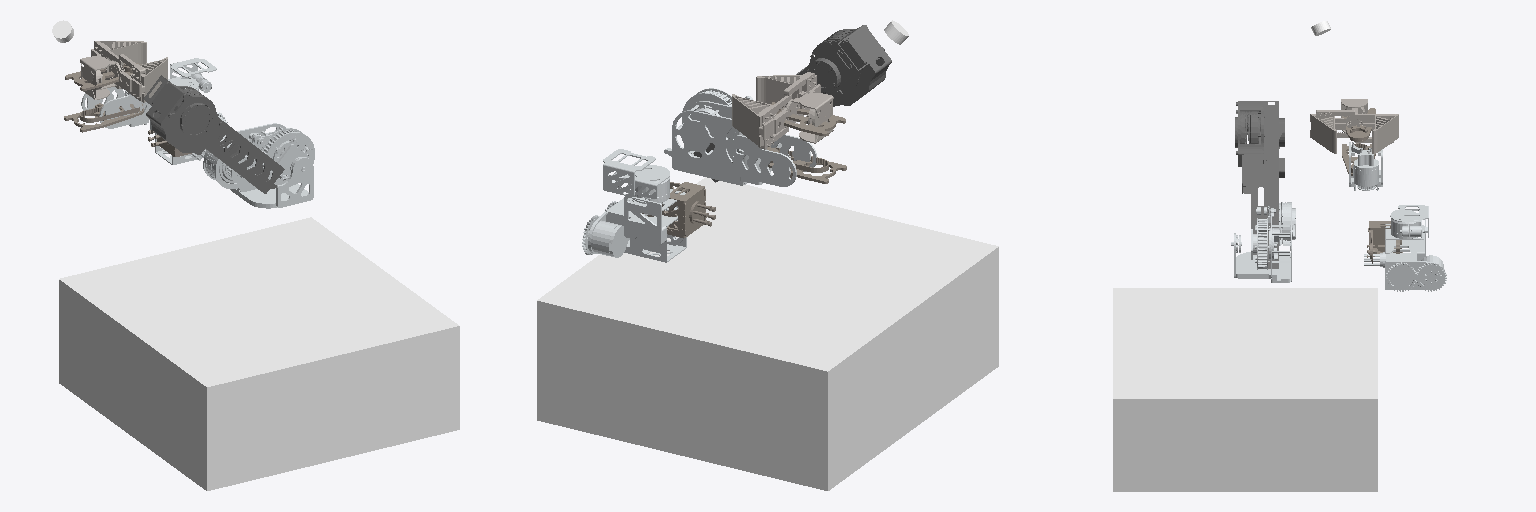
The robot description file, URDF, robot "wust_heavy_lift":
<?xml version="1.0"?>
<robot name="wust_heavy_lift" xmlns:xacro="http://www.ros.org/wiki/xacro">
  <link name="base">
    <inertial>
      <origin xyz="0.03057411 0.00833031 0.1359428" rpy="0 0 0"/>
      <mass value="2.97836886"/>
      <inertia ixx="0.0173222" ixy="0.00021754" ixz="0.00427526" iyy="0.02293598" iyz="0.00056289" izz="0.00881735"/>
    </inertial>
    <visual>
      <origin xyz="0 0 0" rpy="0 0 0"/>
      <geometry><mesh filename="package://wust_heavy_lift_description/meshes/base_collision.stl"/></geometry>
      <material name="base_color"><color rgba="1 1 1 1"/></material>
    </visual>
    <collision>
      <origin xyz="0 0 0" rpy="0 0 0"/>
      <geometry><mesh filename="package://wust_heavy_lift_description/meshes/base_collision.stl"/></geometry>
    </collision>
  </link>
  <link name="link1">
    <inertial>
      <origin xyz="0.00204172 0.04602681 -0.00160657" rpy="0 0 0"/>
      <mass value="0.76071759"/>
      <inertia ixx="0.00119291" ixy="0.0000256" ixz="-0.00006291" iyy="0.00094135" iyz="0.00000147" izz="0.00081243"/>
    </inertial>
    <visual>
      <origin xyz="0 0 0" rpy="0 0 0"/>
      <geometry><mesh filename="package://wust_heavy_lift_description/meshes/link1_collision.stl"/></geometry>
      <material name="link1_color"><color rgba="0.89803922 0.91764706 0.92941176 1"/></material>
    </visual>
    <collision>
      <origin xyz="0 0 0" rpy="0 0 0"/>
      <geometry><mesh filename="package://wust_heavy_lift_description/meshes/link1_collision.stl"/></geometry>
    </collision>
  </link>
  <link name="link2">
    <inertial>
      <origin xyz="-0.03774787 0.08652143 -0.01708302" rpy="0 0 0"/>
      <mass value="0.90154258"/>
      <inertia ixx="0.00213021" ixy="0.00134154" ixz="0.00019995" iyy="0.00208061" iyz="-0.00019807" izz="0.00342371"/>
    </inertial>
    <visual>
      <origin xyz="0 0 0" rpy="0 0 0"/>
      <geometry><mesh filename="package://wust_heavy_lift_description/meshes/link2_collision.stl"/></geometry>
      <material name="link2_color"><color rgba="0.49803922 0.49803922 0.49803922 1"/></material>
    </visual>
    <collision>
      <origin xyz="0 0 0" rpy="0 0 0"/>
      <geometry><mesh filename="package://wust_heavy_lift_description/meshes/link2_collision.stl"/></geometry>
    </collision>
  </link>
  <link name="link3">
    <inertial>
      <origin xyz="-0.07062083 0.10852739 -0.01609221" rpy="0 0 0"/>
      <mass value="1.35727377"/>
      <inertia ixx="0.00417074" ixy="-0.00023246" ixz="0.00057282" iyy="0.00354877" iyz="0.00090338" izz="0.00294161"/>
    </inertial>
    <visual>
      <origin xyz="0 0 0" rpy="0 0 0"/>
      <geometry><mesh filename="package://wust_heavy_lift_description/meshes/link3_collision.stl"/></geometry>
      <material name="link3_color"><color rgba="0.89803922 0.91764706 0.92941176 1"/></material>
    </visual>
    <collision>
      <origin xyz="0 0 0" rpy="0 0 0"/>
      <geometry><mesh filename="package://wust_heavy_lift_description/meshes/link3_collision.stl"/></geometry>
    </collision>
  </link>
  <link name="link4">
    <inertial>
      <origin xyz="-0.09379638 -0.00599206 0.05250412" rpy="0 0 0"/>
      <mass value="1.03370253"/>
      <inertia ixx="0.00258218" ixy="-0.00031653" ixz="0.00092212" iyy="0.00341597" iyz="0.00012783" izz="0.00217406"/>
    </inertial>
    <visual>
      <origin xyz="0 0 0" rpy="0 0 0"/>
      <geometry><mesh filename="package://wust_heavy_lift_description/meshes/link4_collision.stl"/></geometry>
      <material name="link4_color"><color rgba="0.65098039 0.61960784 0.58823529 1"/></material>
    </visual>
    <collision>
      <origin xyz="0 0 0" rpy="0 0 0"/>
      <geometry><mesh filename="package://wust_heavy_lift_description/meshes/link4_collision.stl"/></geometry>
    </collision>
  </link>
  <link name="link5">
    <inertial>
      <origin xyz="-0.02590982 -0.01583379 0.03754581" rpy="0 0 0"/>
      <mass value="0.64084376"/>
      <inertia ixx="0.0006355" ixy="-0.00008344" ixz="0.00011576" iyy="0.0006718" iyz="0.00007485" izz="0.0005295"/>
    </inertial>
    <visual>
      <origin xyz="0 0 0" rpy="0 0 0"/>
      <geometry><mesh filename="package://wust_heavy_lift_description/meshes/link5_collision.stl"/></geometry>
      <material name="link5_color"><color rgba="0.89803922 0.91764706 0.92941176 1"/></material>
    </visual>
    <collision>
      <origin xyz="0 0 0" rpy="0 0 0"/>
      <geometry><mesh filename="package://wust_heavy_lift_description/meshes/link5_collision.stl"/></geometry>
    </collision>
  </link>
  <link name="link6">
    <inertial>
      <origin xyz="-0.02170173 -0.01454163 0.0528691" rpy="0 0 0"/>
      <mass value="0.52277009"/>
      <inertia ixx="0.00057711" ixy="-0.00008555" ixz="0.00002766" iyy="0.00057536" iyz="-4e-8" izz="0.00043136"/>
    </inertial>
    <visual>
      <origin xyz="0 0 0" rpy="0 0 0"/>
      <geometry><mesh filename="package://wust_heavy_lift_description/meshes/link6_collision.stl"/></geometry>
      <material name="link6_color"><color rgba="0.65098039 0.61960784 0.58823529 1"/></material>
    </visual>
    <collision>
      <origin xyz="0 0 0" rpy="0 0 0"/>
      <geometry><mesh filename="package://wust_heavy_lift_description/meshes/link6_collision.stl"/></geometry>
    </collision>
  </link>
  <link name="link7">
    <inertial>
      <origin xyz="-0.06675129 -0.05201923 0.11689578" rpy="0 0 0"/>
      <mass value="1.00651369"/>
      <inertia ixx="0.00281765" ixy="-0.00006874" ixz="0.00026864" iyy="0.00285047" iyz="0.00019319" izz="0.00250232"/>
    </inertial>
    <visual>
      <origin xyz="0 0 0" rpy="0 0 0"/>
      <geometry><mesh filename="package://wust_heavy_lift_description/meshes/link7_collision.stl"/></geometry>
      <material name="link7_color"><color rgba="0.77647059 0.75686275 0.7372549 1"/></material>
    </visual>
    <collision>
      <origin xyz="0 0 0" rpy="0 0 0"/>
      <geometry><mesh filename="package://wust_heavy_lift_description/meshes/link7_collision.stl"/></geometry>
    </collision>
  </link>
  <link name="LINK_TCP">
    <inertial>
      <origin xyz="0 0 0" rpy="0 0 0"/>
      <mass value="0.1"/>
      <inertia ixx="0.0001" ixy="0" ixz="0" iyy="0.0001" iyz="0" izz="0.0001"/>
    </inertial>
    <visual>
      <origin xyz="0 0 0" rpy="0 0 0"/>
      <geometry><cylinder radius="0.02" length="0.02"/></geometry>
      <material name="LINK_TCP_color"><color rgba="1 1 1 1"/></material>
    </visual>
  </link>
  <joint name="joint1" type="revolute">
    <parent link="base"/>
    <child link="link1"/>
    <origin xyz="0.0085 0.0481 0.21" rpy="0 0 0"/>
    <axis xyz="0 1 0"/>
    <limit lower="-3.14" upper="3.14" effort="40" velocity="3"/>
  </joint>
  <joint name="joint2" type="revolute">
    <parent link="link1"/>
    <child link="link2"/>
    <origin xyz="0.00345339 0.063 0.01949651" rpy="0 0 0"/>
    <axis xyz="-0.17441369 0 -0.98467247"/>
    <limit lower="-3.14" upper="3.14" effort="40" velocity="3"/>
  </joint>
  <joint name="joint3" type="revolute">
    <parent link="link2"/>
    <child link="link3"/>
    <origin xyz="-0.04509137 0.09579555 -0.01600578" rpy="0 0 0"/>
    <axis xyz="-0.74314092 0.65606 0.13163154"/>
    <limit lower="-3.14" upper="3.14" effort="20" velocity="3"/>
  </joint>
  <joint name="joint4" type="revolute">
    <parent link="link3"/>
    <child link="link4"/>
    <origin xyz="-0.08076361 0.10373461 0.03589668" rpy="0 0 0"/>
    <axis xyz="0.5858009 0.54280516 0.60183044"/>
    <limit lower="-3.14" upper="3.14" effort="20" velocity="3"/>
  </joint>
  <joint name="joint5" type="revolute">
    <parent link="link4"/>
    <child link="link5"/>
    <origin xyz="-0.13929219 -0.02884453 0.11655673" rpy="0 0 0"/>
    <axis xyz="0.51989116 0.31798493 -0.79284221"/>
    <limit lower="-3.14" upper="3.14" effort="10" velocity="3"/>
  </joint>
  <joint name="joint6" type="revolute">
    <parent link="link5"/>
    <child link="link6"/>
    <origin xyz="-0.04206143 -0.03062023 0.0421217" rpy="0 0 0"/>
    <axis xyz="0.51678161 0.62195029 0.58831506"/>
    <limit lower="-3.14" upper="3.14" effort="10" velocity="3"/>
  </joint>
  <joint name="joint7" type="revolute">
    <parent link="link6"/>
    <child link="link7"/>
    <origin xyz="-0.01395286 -0.00840714 0.04094643" rpy="0 0 0"/>
    <axis xyz="-0.46996143 -0.36830264 0.80217792"/>
    <limit lower="-3.14" upper="3.14" effort="10" velocity="3"/>
  </joint>
<joint name="vacuum_tcp" type="fixed">
    <origin xyz="-0.096 -0.075 0.159" rpy="-0.069 0.709 -2.595"/>
    <parent link="link7"/> <child link="LINK_TCP"/>
  </joint>
</robot>

--- What the picture shows (computed from the rendered views, not written in the file) ---
3 views of the same robot in one strip: view 1: azimuth 30°, elevation 25°; view 2: azimuth 150°, elevation 25°; view 3: azimuth 270°, elevation 25° (orthographic).
Robot: wust_heavy_lift — 9 links, 8 joints (7 revolute, 1 fixed); root link base; default pose: all joints at 0.
Visible links, largest first — view 1: base, link2, link1, link7, link6, link3, link5; view 2: base, link3, link7, link1, link2, link5, link4, link6; view 3: base, link2, link3, link1, link7, link5, link4, link6.
Boxes of the visible links, box(x1,y1,x2,y2) form: base: box(59, 217, 459, 490); link2: box(143, 75, 286, 193); link1: box(203, 123, 314, 208); link7: box(80, 41, 167, 102); link6: box(64, 63, 143, 132); link3: box(150, 58, 227, 164); link5: box(81, 87, 151, 128); base: box(537, 177, 998, 490); link3: box(582, 149, 686, 262); link7: box(732, 72, 833, 149); link1: box(664, 88, 781, 185); link2: box(693, 25, 891, 182); link5: box(734, 130, 816, 186); link4: box(642, 182, 715, 237); link6: box(767, 102, 846, 183); base: box(1113, 288, 1377, 491); link2: box(1235, 101, 1284, 268); link3: box(1364, 205, 1446, 291); link1: box(1231, 202, 1295, 282); link7: box(1310, 99, 1398, 153); link5: box(1349, 142, 1382, 190); link4: box(1367, 221, 1402, 263); link6: box(1342, 108, 1375, 175).
Size in the robot's own frame: 0.6649 by 0.7425 by 0.8566 metres.
Meshes: 8 distinct files referenced, 8 mesh visuals loaded (8 binary STL).
